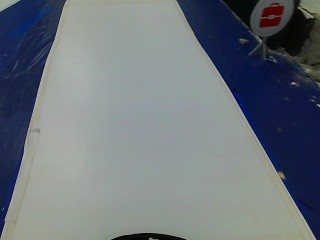company: (248, 2, 292, 37)
